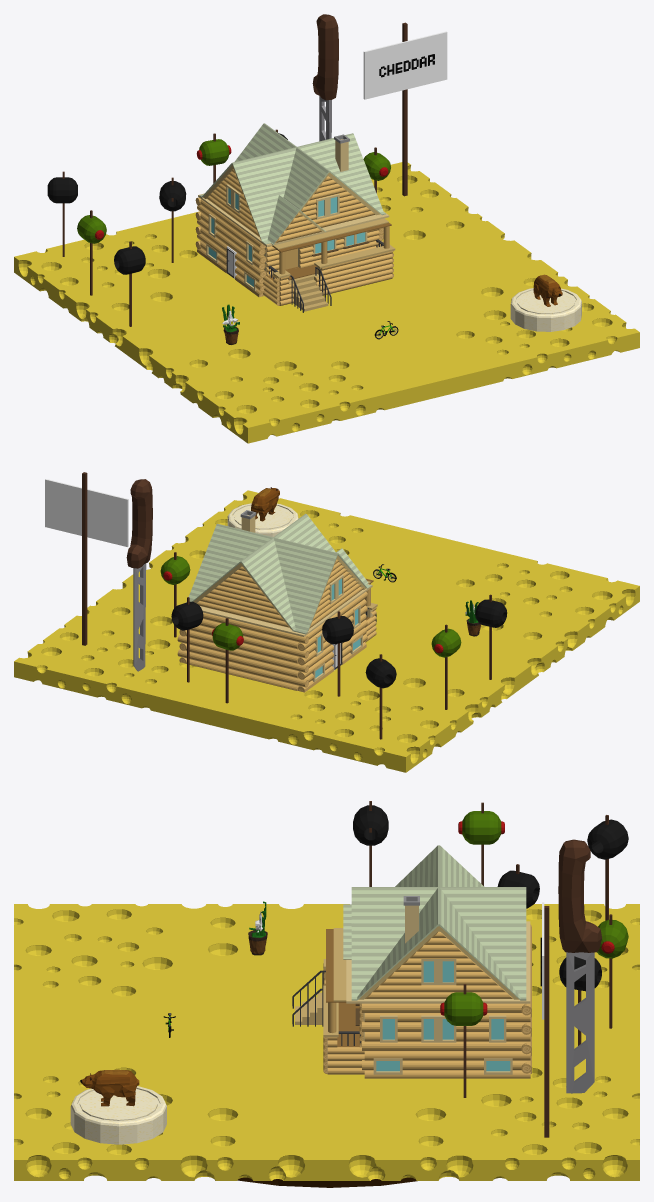
3 views of the same model, one above another, from view 1: azimuth 30°, elevation 25°; view 2: azimuth 150°, elevation 25°; view 3: azimuth 270°, elevation 25° (orthographic). The views are drawn at different scales.
Visible parts, largest first — view 1: Cube.022, Cube.1516, Cube.023, Cylinder.016, Cube.024, Sphere.017, Sphere.016, Sphere.020, Sphere.018, Sphere.022, ANIMAL_OSO, Sphere.019; view 2: Cube.022, Cube.1516, Cube.023, Cube.024, Cylinder.016, Sphere.020, Sphere.016, Sphere.022, Sphere.017, Sphere.021, Sphere.018, Sphere.019 (+1 smaller); view 3: Cube.022, Cube.1516, Cube.024, Cylinder.016, Cube.023, Sphere.019, Sphere.016, ANIMAL_OSO, Sphere.018, Sphere.017, Sphere.022, Cylinder (+3 smaller).
Part boxes in pixels (x1,y1,x2,y2): Cube.022: (14, 162, 639, 443); Cube.1516: (195, 123, 395, 312); Cube.023: (363, 22, 447, 196); Cylinder.016: (510, 288, 581, 331); Cube.024: (312, 14, 338, 141); Sphere.017: (114, 241, 145, 326); Sphere.016: (47, 171, 77, 256); Sphere.020: (159, 177, 186, 262); Sphere.018: (77, 210, 106, 295); Sphere.022: (196, 133, 231, 183); ANIMAL_OSO: (533, 274, 562, 306); Sphere.019: (363, 147, 390, 193); Cube.022: (14, 490, 639, 772); Cube.1516: (177, 510, 377, 692); Cube.023: (45, 472, 128, 645); Cube.024: (126, 479, 152, 671); Cylinder.016: (227, 503, 298, 536); Sphere.020: (322, 611, 353, 696); Sphere.016: (365, 654, 396, 739); Sphere.022: (212, 618, 243, 703); Sphere.017: (475, 594, 507, 679); Sphere.021: (171, 597, 203, 682); Sphere.018: (431, 624, 461, 709); Sphere.019: (160, 552, 190, 637); Cube.022: (14, 904, 639, 1180); Cube.1516: (292, 845, 531, 1078); Cube.024: (558, 839, 601, 1093); Cylinder.016: (70, 1086, 166, 1144); Cube.023: (540, 902, 549, 1137); Sphere.019: (440, 984, 487, 1097); Sphere.016: (587, 815, 628, 920); ANIMAL_OSO: (80, 1069, 139, 1106); Sphere.018: (458, 802, 504, 885); Sphere.017: (353, 801, 388, 886); Sphere.022: (597, 914, 628, 1028); Cylinder: (237, 1177, 417, 1187).
Bounding box in the file's own units: 3917 × 2073 × 4000.
41 materials, 4 textured.
